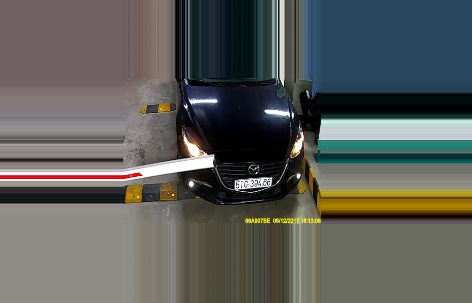plate: (233, 174, 272, 193)
